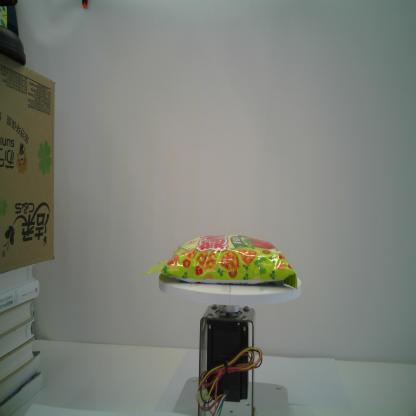Puffed Food: (140, 234, 298, 290)
